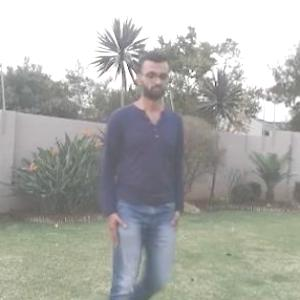follow: (98, 61, 162, 299)
